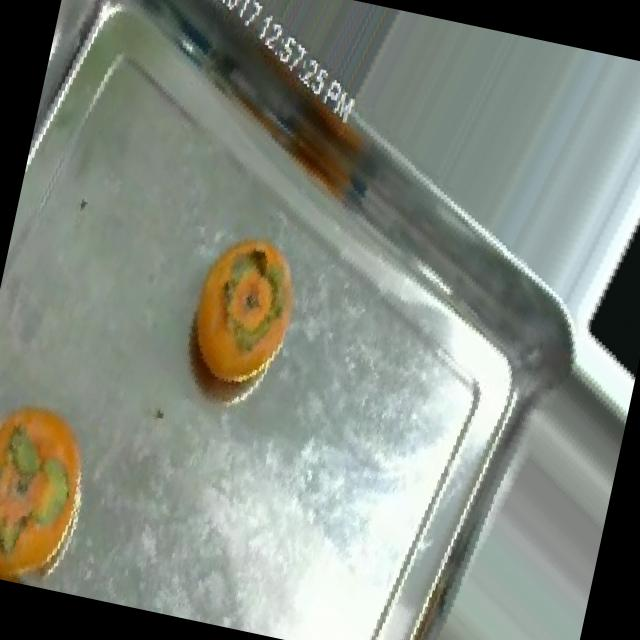Fruit: (156, 208, 322, 426), (0, 372, 114, 595)
